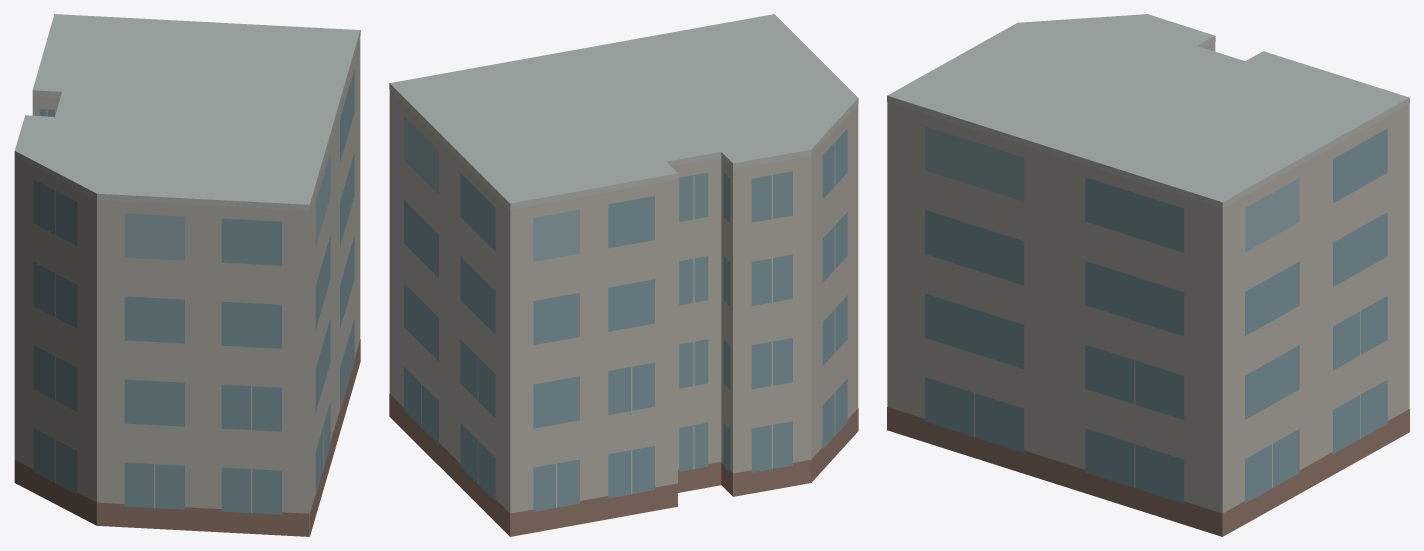
Rendered from survey-upis-32615713.glb.
3 renders of one model, left to right at view 1: azimuth 30°, elevation 25°; view 2: azimuth 150°, elevation 25°; view 3: azimuth 270°, elevation 25°, orthographic.
Visible parts, largest first — view 1: survey-upis-32615713.tmp; view 2: survey-upis-32615713.tmp; view 3: survey-upis-32615713.tmp.
Part boxes in pixels (x1,y1,x2,y2): survey-upis-32615713.tmp: [14, 14, 360, 536]; survey-upis-32615713.tmp: [389, 14, 858, 536]; survey-upis-32615713.tmp: [887, 14, 1409, 536].
Bounding box in the file's own units: 16.42 × 13.6 × 19.26.
